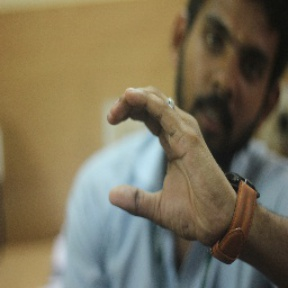C: (93, 83, 218, 232)
